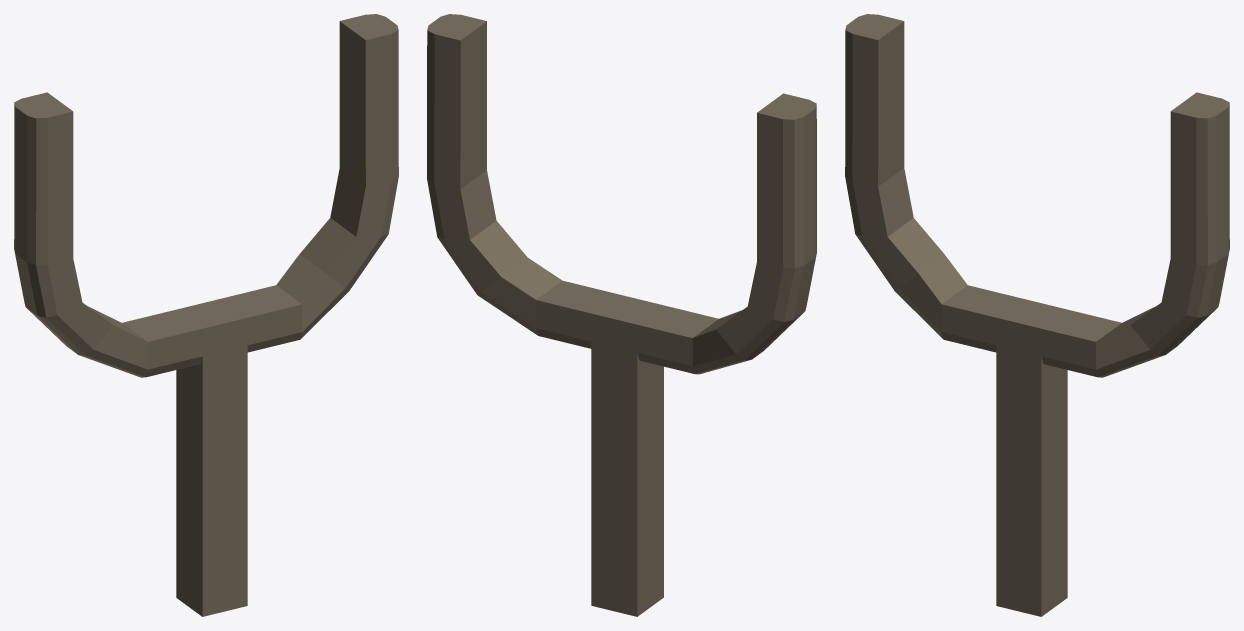
Rendered from Sling_post.fbx.
The picture shows the model from 3 angles, left to right: view 1: azimuth 30°, elevation 25°; view 2: azimuth 150°, elevation 25°; view 3: azimuth 330°, elevation 25°; orthographic projection.
Parts seen in each view (by area): view 1: Cube.007; view 2: Cube.007; view 3: Cube.007.
Boxes of the visible parts, <box> form: Cube.007: <box>14,14,398,616</box>; Cube.007: <box>427,14,816,616</box>; Cube.007: <box>845,14,1229,616</box>.
Bounding box in the file's own units: 156 × 213 × 23.06.
